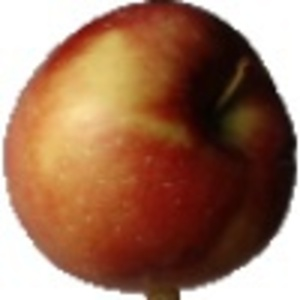maçã braeburn: (5, 2, 297, 295)
